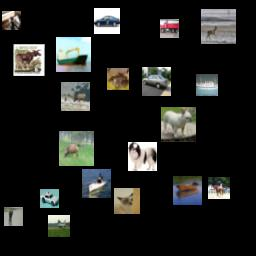airplane: (48, 215, 70, 237)
automobile: (142, 67, 171, 96), (94, 8, 120, 34), (40, 189, 59, 208)
cat: (114, 188, 140, 214), (4, 207, 23, 226), (2, 11, 21, 30)
deer: (201, 9, 236, 44), (59, 131, 94, 166), (13, 44, 45, 76), (61, 82, 90, 111)
dog: (161, 107, 196, 142), (128, 142, 157, 171)
frog: (107, 68, 129, 90)
ship: (56, 37, 91, 72), (82, 169, 111, 198), (173, 176, 202, 205), (196, 74, 218, 96)
truck: (160, 19, 179, 38)
